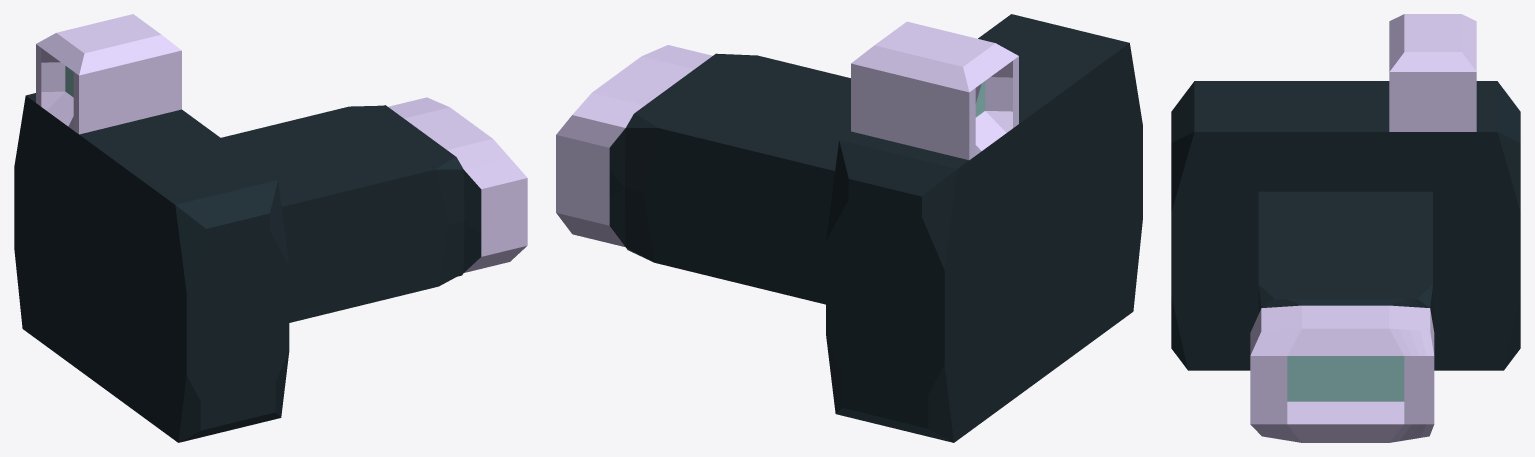
File: camera_model.fbx
3 renders of one model, left to right at view 1: azimuth 30°, elevation 25°; view 2: azimuth 150°, elevation 25°; view 3: azimuth 270°, elevation 25°, orthographic. The views are drawn at different scales.
Visible parts, largest first — view 1: Cube; view 2: Cube; view 3: Cube.
Part boxes in pixels (bbox=[...]): Cube: bbox=[14, 14, 527, 442]; Cube: bbox=[556, 14, 1142, 442]; Cube: bbox=[1171, 14, 1520, 442].
Size of the model in its own units: 337 by 261 by 265.
